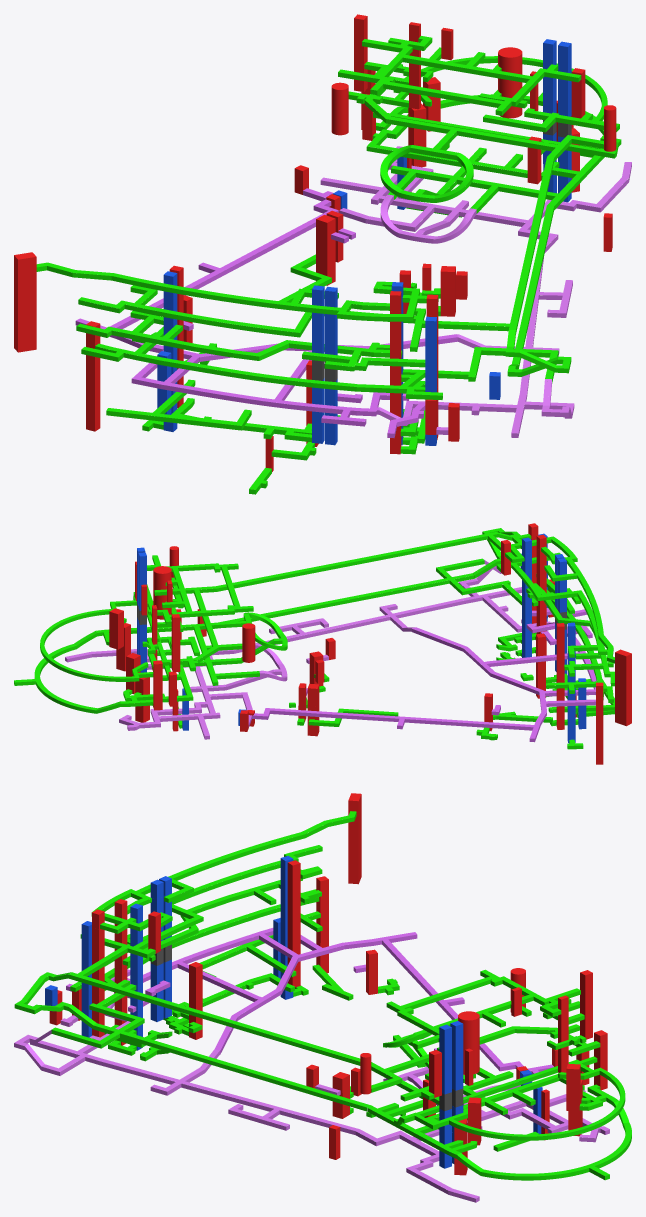
The model's file is vue_des_circulations.glb.
3 views of the same model, one above another, from view 1: azimuth 30°, elevation 25°; view 2: azimuth 150°, elevation 25°; view 3: azimuth 270°, elevation 25° (orthographic). The views are drawn at different scales.
Visible parts, largest first — view 1: 3D_CIRCULATIONS_H 01, 3D_CIRCULATIONS_H 03 DE MUN H_02 ROTONDE, 3D_CIRCULATIONS_RDC BAS IENA, 3D_CIRCULATIONS_RDC HAUT IENA, 3D_CIRCULATIONS_H 03 ROTONDE, 3D_CIRCULATIONS_H 02 DE MUN, 3D_CIRCULATIONS_TOITURE DE MUN, 3D_CIRCULATIONS_SS_01, 3D_ESCALIERS_RDC HAUT S IENA, 3D_ESCALIERS_R+1, 3D_CIRCULATIONS_ENTRESOL ROTONDE, 3D_ESCALIERS_MEZZANINE ROTONDE N02 (+19 smaller); view 2: 3D_CIRCULATIONS_H 01, 3D_CIRCULATIONS_RDC BAS IENA, 3D_CIRCULATIONS_H 03 DE MUN H_02 ROTONDE, 3D_CIRCULATIONS_RDC HAUT IENA, 3D_CIRCULATIONS_H 03 ROTONDE, 3D_ESCALIERS_R+1, 3D_CIRCULATIONS_SS_01, 3D_CIRCULATIONS_ENTRESOL ROTONDE, 3D_CIRCULATIONS_TOITURE DE MUN, 3D_ESCALIERS_RDC HAUT S IENA, 3D_CIRCULATIONS_H 02 DE MUN, 3D_ESCALIERS_RDC BAS IENA (+18 smaller); view 3: 3D_CIRCULATIONS_H 01, 3D_CIRCULATIONS_RDC BAS IENA, 3D_CIRCULATIONS_H 03 DE MUN H_02 ROTONDE, 3D_CIRCULATIONS_RDC HAUT IENA, 3D_CIRCULATIONS_ENTRESOL ROTONDE, 3D_CIRCULATIONS_TOITURE DE MUN, 3D_CIRCULATIONS_H 03 ROTONDE, 3D_ESCALIERS_R+1, 3D_CIRCULATIONS_SS_01, 3D_ESCALIERS_RDC BAS IENA, 3D_ESCALIERS_MEZZANINE ROTONDE N02, 3D_ESCALIERS_RDC HAUT S IENA (+19 smaller).
Part boxes in pixels (<box>): 3D_CIRCULATIONS_H 01: <box>81,92,604,399</box>; 3D_CIRCULATIONS_H 03 DE MUN H_02 ROTONDE: <box>78,76,603,373</box>; 3D_CIRCULATIONS_RDC BAS IENA: <box>320,146,631,437</box>; 3D_CIRCULATIONS_RDC HAUT IENA: <box>75,188,457,438</box>; 3D_CIRCULATIONS_H 03 ROTONDE: <box>362,36,581,115</box>; 3D_CIRCULATIONS_H 02 DE MUN: <box>76,311,425,371</box>; 3D_CIRCULATIONS_TOITURE DE MUN: <box>36,262,438,321</box>; 3D_CIRCULATIONS_SS_01: <box>106,207,461,443</box>; 3D_ESCALIERS_RDC HAUT S IENA: <box>86,165,459,431</box>; 3D_ESCALIERS_R+1: <box>14,103,579,389</box>; 3D_CIRCULATIONS_ENTRESOL ROTONDE: <box>373,56,621,158</box>; 3D_ESCALIERS_MEZZANINE ROTONDE N02: <box>331,42,616,128</box>; 3D_CIRCULATIONS_H 01: <box>14,539,613,713</box>; 3D_CIRCULATIONS_RDC BAS IENA: <box>65,559,554,739</box>; 3D_CIRCULATIONS_H 03 DE MUN H_02 ROTONDE: <box>133,528,613,671</box>; 3D_CIRCULATIONS_RDC HAUT IENA: <box>248,608,597,742</box>; 3D_CIRCULATIONS_H 03 ROTONDE: <box>147,555,253,631</box>; 3D_ESCALIERS_R+1: <box>109,577,631,726</box>; 3D_CIRCULATIONS_SS_01: <box>178,632,614,740</box>; 3D_CIRCULATIONS_ENTRESOL ROTONDE: <box>40,596,171,681</box>; 3D_CIRCULATIONS_TOITURE DE MUN: <box>505,534,614,663</box>; 3D_ESCALIERS_RDC HAUT S IENA: <box>240,579,603,731</box>; 3D_CIRCULATIONS_H 02 DE MUN: <box>526,574,614,686</box>; 3D_ESCALIERS_RDC BAS IENA: <box>116,609,553,726</box>; 3D_CIRCULATIONS_H 01: <box>37,889,631,1180</box>; 3D_CIRCULATIONS_RDC BAS IENA: <box>14,993,609,1202</box>; 3D_CIRCULATIONS_H 03 DE MUN H_02 ROTONDE: <box>14,845,600,1101</box>; 3D_CIRCULATIONS_RDC HAUT IENA: <box>66,928,553,1074</box>; 3D_CIRCULATIONS_ENTRESOL ROTONDE: <box>394,1056,625,1140</box>; 3D_CIRCULATIONS_TOITURE DE MUN: <box>91,811,356,933</box>; 3D_CIRCULATIONS_H 03 ROTONDE: <box>386,969,580,1048</box>; 3D_ESCALIERS_R+1: <box>92,854,607,1145</box>; 3D_CIRCULATIONS_SS_01: <box>104,935,538,1151</box>; 3D_ESCALIERS_RDC BAS IENA: <box>49,1003,582,1175</box>; 3D_ESCALIERS_MEZZANINE ROTONDE N02: <box>360,968,592,1077</box>; 3D_ESCALIERS_RDC HAUT S IENA: <box>49,900,557,1076</box>.
Bounding box in the file's own units: 110 × 34.32 × 96.41.
